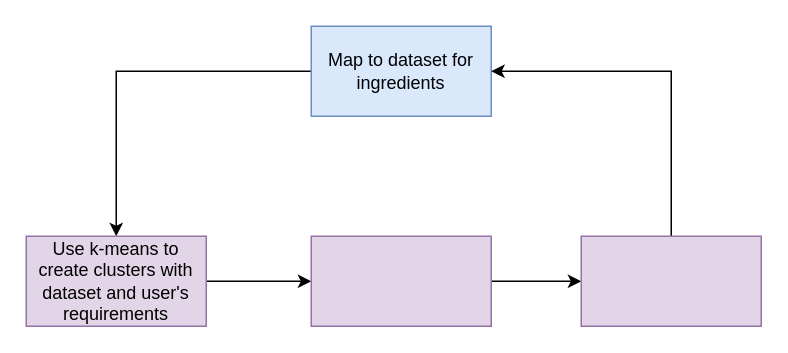
Some shapes in this 788 by 353 pixel diagram are drawn without their labels. Each missing label, with the centre of its shape:
"Find ingredients that belong to the same cluster" goes at point 670,280.
"Rearrange cluster centers" goes at point 400,280.
